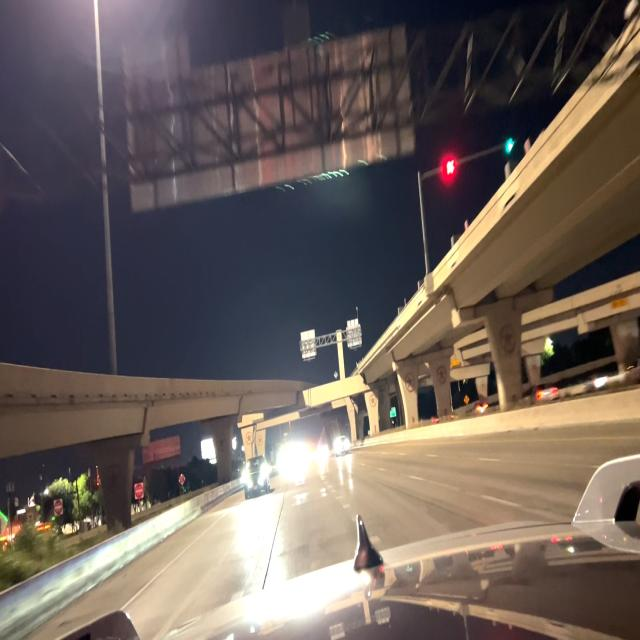back-of-sign: (122, 30, 414, 212), (125, 25, 189, 71), (285, 5, 309, 46)
